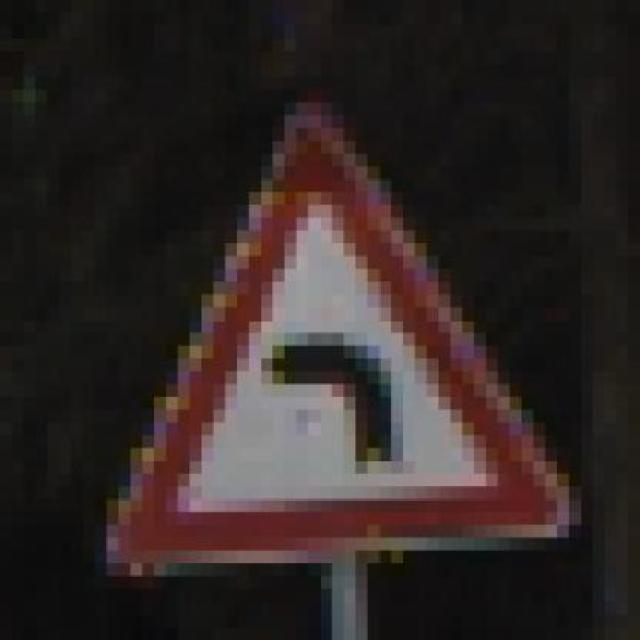Dangerous Left Curve Ahead: (70, 77, 582, 563)
